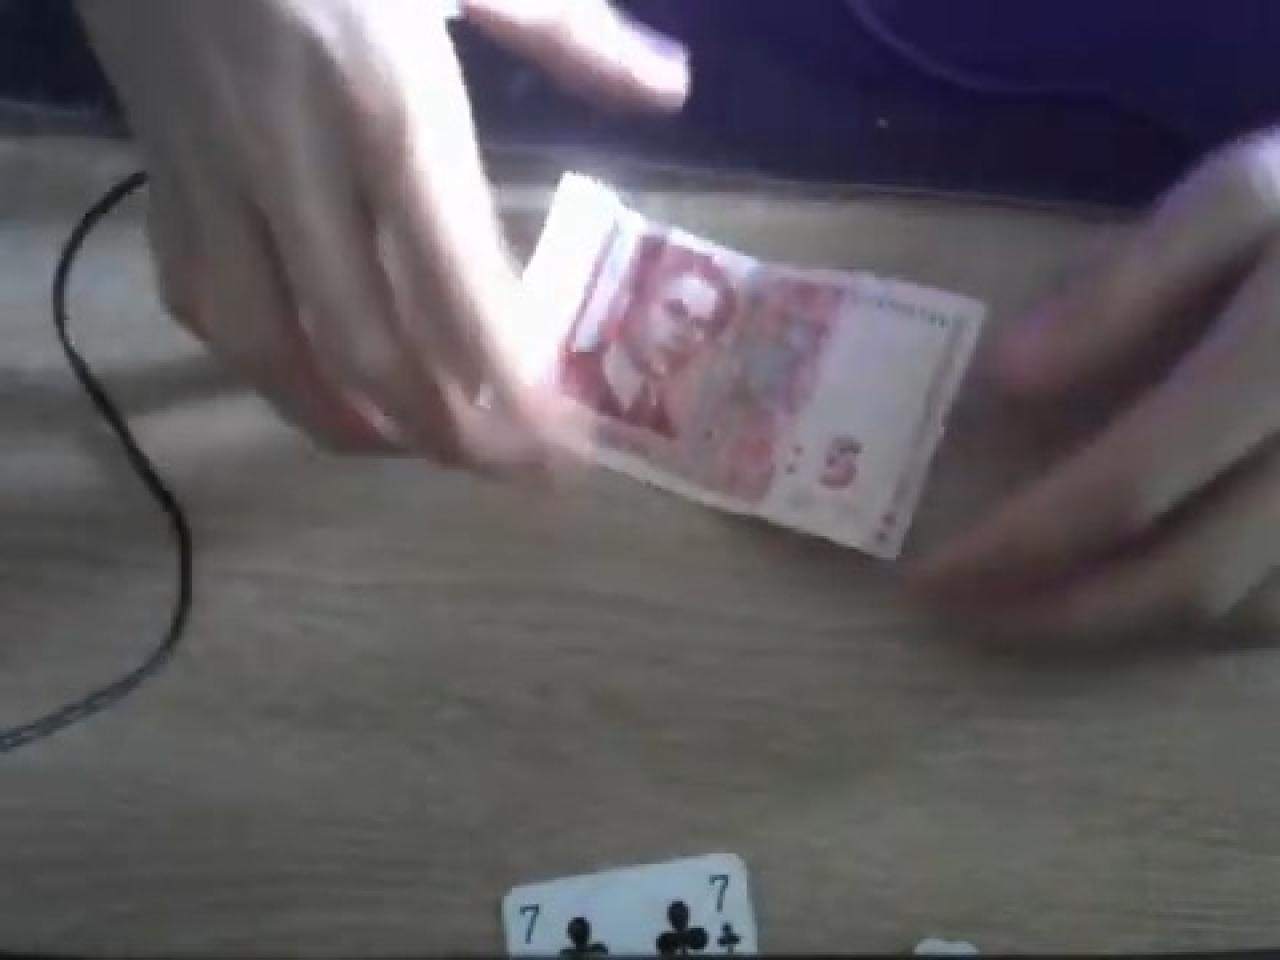5leva: (520, 179, 984, 563)
